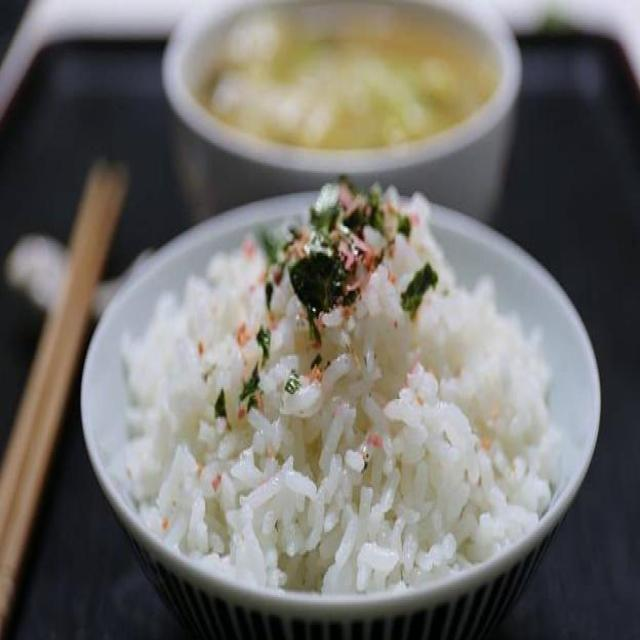arroz: (97, 192, 574, 580)
